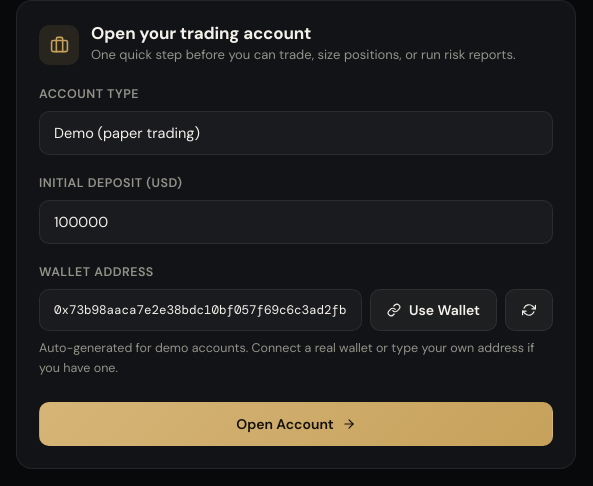
CreateAccountPrompt › uses an already-connected wallet address without reconnecting
Click the button "Use Wallet": {"x": 434, "y": 310} [370,289,497,331]
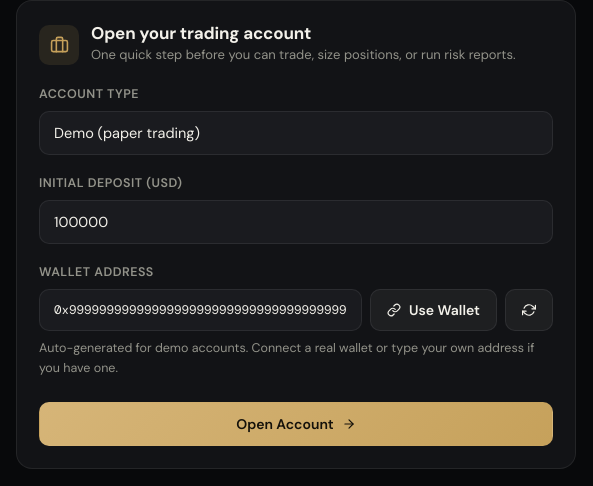
Check: the field labelled "Wallet address" holds "0x9999999999999999999999999999999999999999", box [39,289,362,331]
